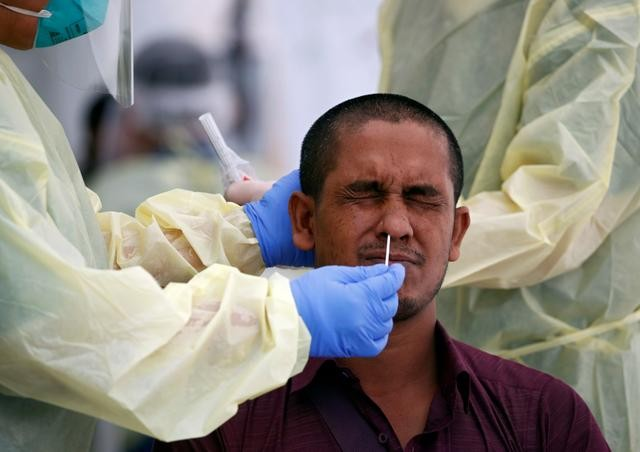Gloves: (288, 257, 410, 363), (246, 165, 317, 269)
with_mask: (33, 1, 110, 48)
without_mask: (308, 120, 457, 319)
